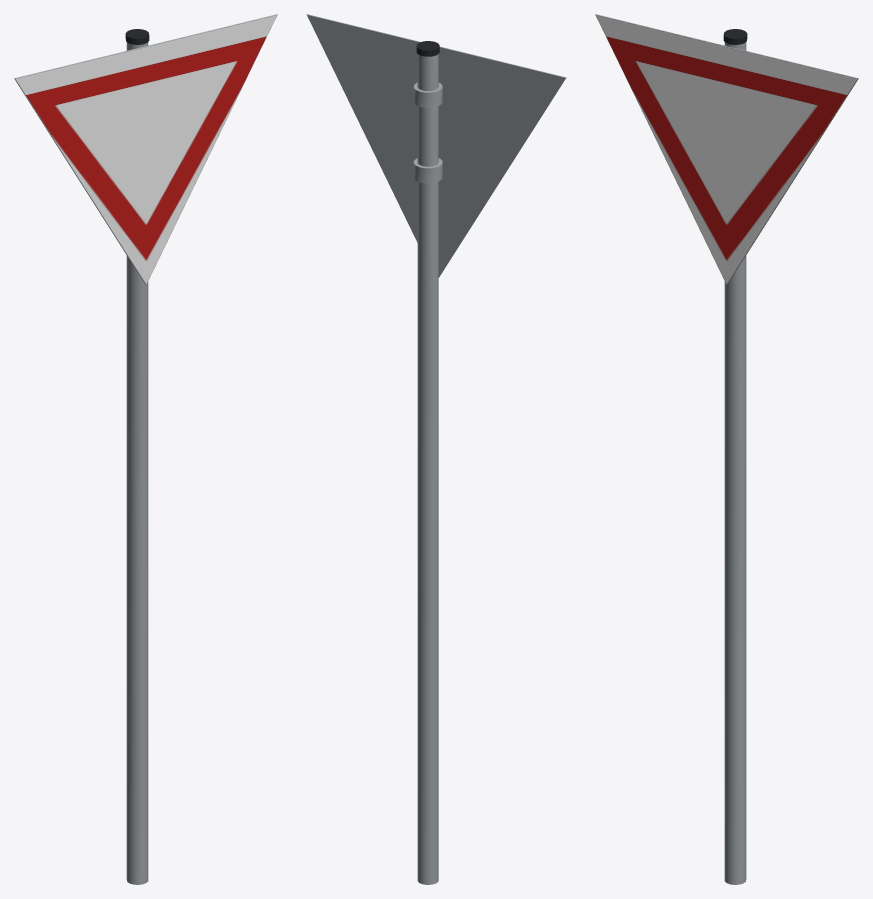
File: yield-sign.glb
3 renders of one model, left to right at view 1: azimuth 30°, elevation 25°; view 2: azimuth 150°, elevation 25°; view 3: azimuth 330°, elevation 25°, orthographic.
Visible parts, largest first — view 1: Yield_Sign; view 2: Yield_Sign; view 3: Yield_Sign.
Part boxes in pixels (x1,y1,x2,y2): Yield_Sign: (14, 14, 277, 884); Yield_Sign: (306, 14, 566, 884); Yield_Sign: (595, 14, 858, 884).
Size of the model in its own units: 0.9 by 2.76 by 0.0962.
Materials: 3 (1 with a texture image).
